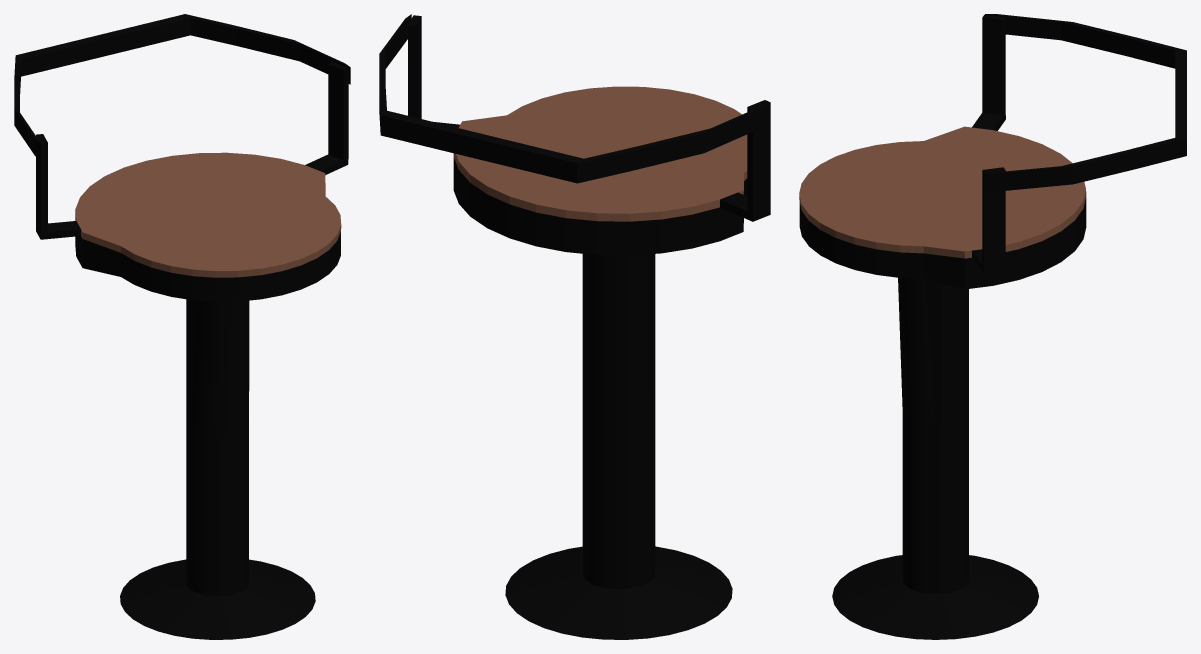
The model's file is Seat.fbx.
3 renders of one model, left to right at view 1: azimuth 30°, elevation 25°; view 2: azimuth 150°, elevation 25°; view 3: azimuth 270°, elevation 25°, orthographic. The views are drawn at different scales.
Parts seen in each view (by area): view 1: Seat; view 2: Seat; view 3: Seat.
Part boxes in pixels (x1=…): Seat: x1=14, y1=14, x2=350, y2=639; Seat: x1=379, y1=14, x2=770, y2=639; Seat: x1=799, y1=14, x2=1186, y2=639.
Bounding box in the file's own units: 0.7777 × 1.14 × 0.7988.
